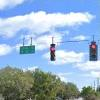traffic lights: (90, 42, 98, 64), (50, 42, 56, 63)
